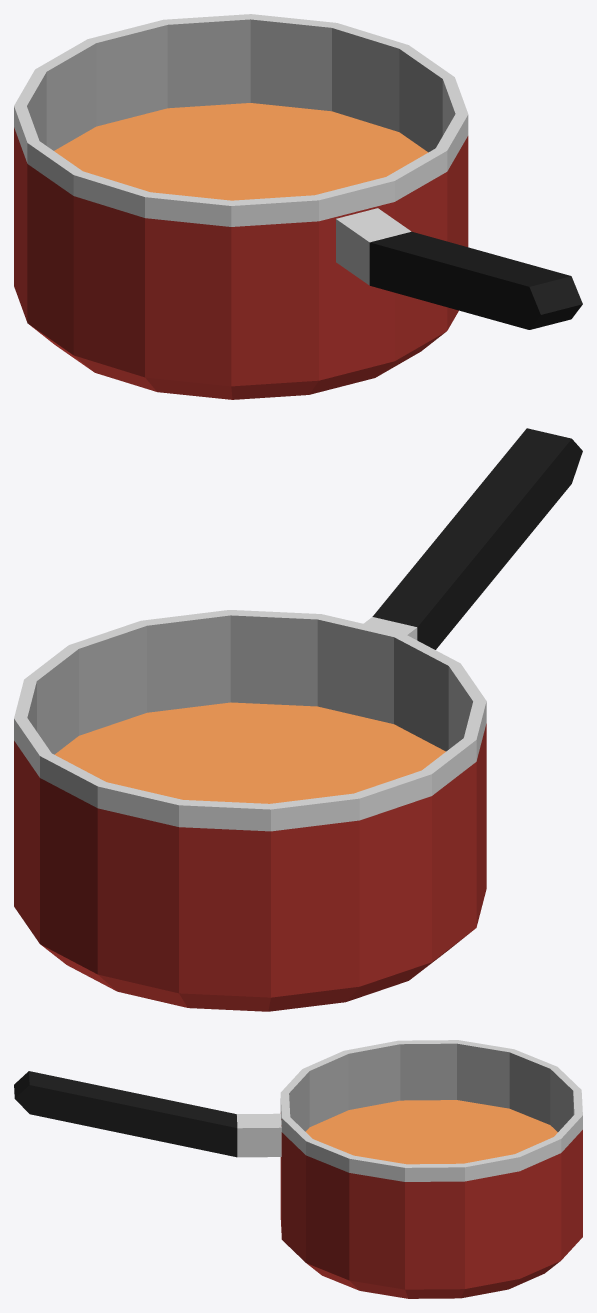
Rendered from SM_kitchenPot_02.glb.
3 views of the same model, one above another, from view 1: azimuth 30°, elevation 25°; view 2: azimuth 150°, elevation 25°; view 3: azimuth 270°, elevation 25° (orthographic). The views are drawn at different scales.
Visible parts, largest first — view 1: SM_kitchenPot_02; view 2: SM_kitchenPot_02; view 3: SM_kitchenPot_02.
Part boxes in pixels (bbox=[...]): SM_kitchenPot_02: bbox=[14, 14, 582, 399]; SM_kitchenPot_02: bbox=[14, 428, 582, 1011]; SM_kitchenPot_02: bbox=[14, 1040, 582, 1298].
Size of the model in its own units: 0.2364 by 0.1456 by 0.4446.
Materials: 1 (1 with a texture image).
